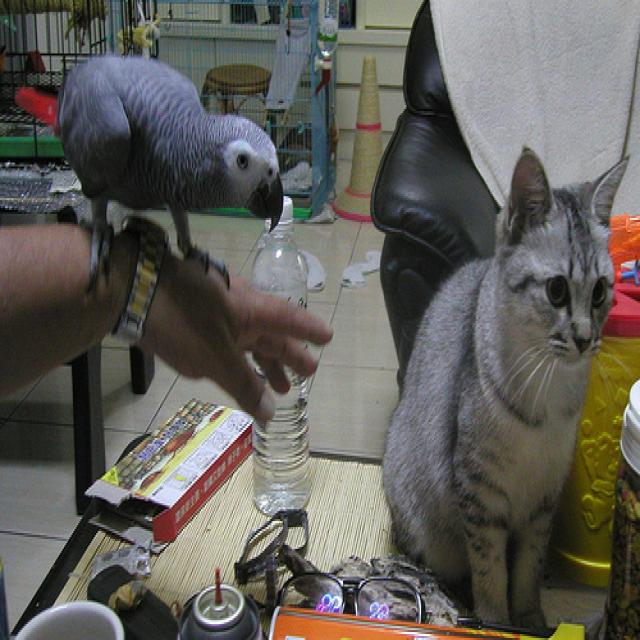left eye: (589, 274, 608, 309)
